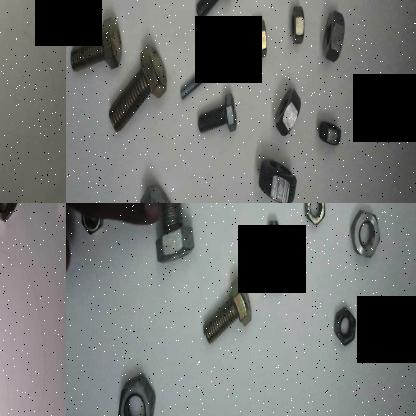Bolts: (107, 40, 169, 134), (198, 272, 254, 352), (70, 10, 126, 85), (152, 203, 196, 276), (193, 92, 244, 144), (176, 52, 224, 104), (260, 214, 288, 300), (121, 179, 183, 203), (193, 0, 236, 33)
NUTS: (346, 203, 382, 266), (316, 0, 350, 64), (255, 156, 299, 203), (116, 367, 156, 416), (272, 88, 304, 142), (330, 302, 360, 356), (285, 0, 307, 58), (247, 14, 271, 66), (311, 114, 341, 154), (304, 203, 330, 232), (0, 203, 15, 226)
